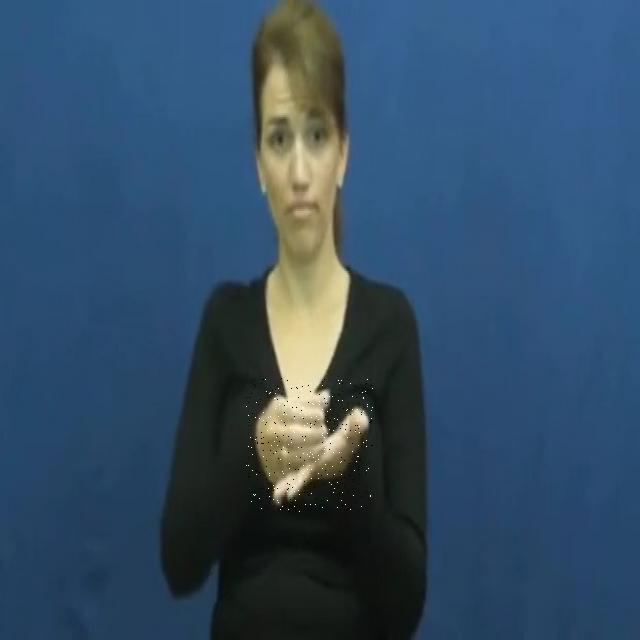straw: (246, 378, 373, 512)
